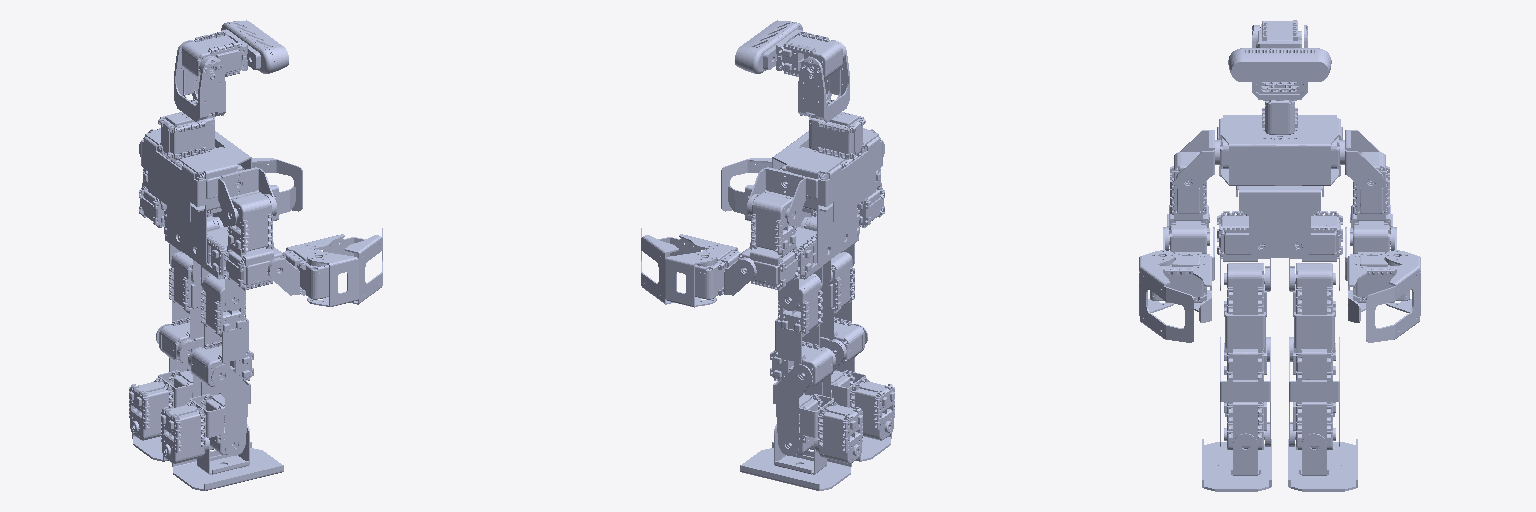
--- Facts derived from the render (not from the file) ---
The picture shows the robot from 3 angles, left to right: view 1: azimuth 30°, elevation 25°; view 2: azimuth 150°, elevation 25°; view 3: azimuth 270°, elevation 25°; orthographic projection.
Robot: BIOLOIDGPURDF — 22 links, 21 joints (21 continuous); root link base_link; default pose: every joint at zero.
Links seen in each view (by area): view 1: base_link, right_leg_link_2, right_arm_link_2, camera, right_leg_link_4, right_leg_link_5, left_leg_link_2, right_arm_link_3, left_leg_link_4, right_gripper, head_link, right_leg_link_3 (+8 smaller); view 2: base_link, left_leg_link_2, left_arm_link_2, camera, left_leg_link_4, left_leg_link_5, right_leg_link_2, left_arm_link_3, right_leg_link_4, left_gripper, head_link, left_leg_link_3 (+8 smaller); view 3: base_link, right_leg_link_2, left_leg_link_2, torso_Link, camera, right_leg_link_5, left_leg_link_5, right_arm_link_2, left_arm_link_2, right_gripper, left_gripper, right_arm_link_3 (+10 smaller).
Boxes of the visible links, <box> form: base_link: <box>141,112,251,221</box>; right_leg_link_2: <box>189,274,253,386</box>; right_arm_link_2: <box>224,192,285,290</box>; camera: <box>182,20,288,78</box>; right_leg_link_4: <box>161,393,238,463</box>; right_leg_link_5: <box>172,424,283,490</box>; left_leg_link_2: <box>159,252,203,362</box>; right_arm_link_3: <box>269,234,365,299</box>; left_leg_link_4: <box>129,369,192,440</box>; right_gripper: <box>307,228,382,306</box>; head_link: <box>174,40,225,122</box>; right_leg_link_3: <box>188,347,250,455</box>; base_link: <box>772,112,882,221</box>; left_leg_link_2: <box>770,274,834,386</box>; left_arm_link_2: <box>738,192,799,290</box>; camera: <box>735,20,844,78</box>; left_leg_link_4: <box>785,393,862,463</box>; left_leg_link_5: <box>740,424,851,490</box>; right_leg_link_2: <box>820,252,864,362</box>; left_arm_link_3: <box>658,234,754,299</box>; right_leg_link_4: <box>831,369,894,440</box>; left_gripper: <box>641,228,716,307</box>; head_link: <box>798,40,849,122</box>; left_leg_link_3: <box>773,347,835,455</box>; base_link: <box>1215,100,1344,185</box>; right_leg_link_2: <box>1224,263,1269,381</box>; left_leg_link_2: <box>1290,263,1335,381</box>; torso_Link: <box>1236,186,1323,257</box>; camera: <box>1228,20,1331,81</box>; right_leg_link_5: <box>1202,433,1271,491</box>; left_leg_link_5: <box>1288,433,1357,491</box>; right_arm_link_2: <box>1165,152,1209,253</box>; left_arm_link_2: <box>1350,152,1394,253</box>; right_gripper: <box>1139,250,1193,342</box>; left_gripper: <box>1366,250,1420,342</box>; right_arm_link_3: <box>1150,227,1214,322</box>.
Size in the robot's own frame: 0.2083 by 0.245 by 0.4258 metres.
22 mesh visuals loaded from 22 distinct referenced files (22 binary STL).

URDF robot description (BIOLOIDGPURDF):
<?xml version="1.0" encoding="utf-8"?>
<!-- This URDF was automatically created by SolidWorks to URDF Exporter! Originally created by Stephen Brawner ([email redacted]) 
     Commit Version: 1.5.0-0-g9aa0fdb  Build Version: 1.5.7004.21443
     For more information, please see http://wiki.ros.org/sw_urdf_exporter -->
<robot
  name="BIOLOIDGPURDF">
  <link
    name="base_link">
    <inertial>
      <origin
        xyz="-0.00597111269746017 2.42873429701085E-13 0.00803112203996735"
        rpy="0 0 0" />
      <mass
        value="0.197310024404685" />
      <inertia
        ixx="0.000225464933012639"
        ixy="1.10285365860214E-08"
        ixz="8.85680062206937E-06"
        iyy="0.00011955864066369"
        iyz="4.41132329846465E-08"
        izz="0.0002073725918361" />
    </inertial>
    <visual>
      <origin
        xyz="0 0 0"
        rpy="0 0 0" />
      <geometry>
        <mesh
          filename="package://BIOLOIDGPURDF/meshes/base_link.STL" />
      </geometry>
      <material
        name="">
        <color
          rgba="0.792156862745098 0.819607843137255 0.933333333333333 1" />
      </material>
    </visual>
    <collision>
      <origin
        xyz="0 0 0"
        rpy="0 0 0" />
      <geometry>
        <mesh
          filename="package://BIOLOIDGPURDF/meshes/base_link.STL" />
      </geometry>
    </collision>
  </link>
  <link
    name="right_arm_link_1">
    <inertial>
      <origin
        xyz="-5.99523879707409E-08 -0.0092517241686121 0.00509147632820952"
        rpy="0 0 0" />
      <mass
        value="0.00431248529357434" />
      <inertia
        ixx="8.70633126050822E-07"
        ixy="1.77301380087765E-12"
        ixz="-1.00611738981066E-12"
        iyy="1.89328168631898E-06"
        iyz="2.56388149762672E-07"
        izz="1.81662338069163E-06" />
    </inertial>
    <visual>
      <origin
        xyz="0 0 0"
        rpy="0 0 0" />
      <geometry>
        <mesh
          filename="package://BIOLOIDGPURDF/meshes/right_arm_link_1.STL" />
      </geometry>
      <material
        name="">
        <color
          rgba="0.792156862745098 0.819607843137255 0.933333333333333 1" />
      </material>
    </visual>
    <collision>
      <origin
        xyz="0 0 0"
        rpy="0 0 0" />
      <geometry>
        <mesh
          filename="package://BIOLOIDGPURDF/meshes/right_arm_link_1.STL" />
      </geometry>
    </collision>
  </link>
  <joint
    name="joint_1"
    type="continuous">
    <origin
      xyz="0.00874999999999913 -0.0564909335310514 0.00275000000000069"
      rpy="3.14159265358979 0 3.14159265358979" />
    <parent
      link="base_link" />
    <child
      link="right_arm_link_1" />
    <axis
      xyz="0 1 0" />
    <safety_controller
      k_velocity="0" />
  </joint>
  <link
    name="right_arm_link_2">
    <inertial>
      <origin
        xyz="-0.000528170885429072 -0.035251825072309 0.00311828635700788"
        rpy="0 0 0" />
      <mass
        value="0.0866430354377455" />
      <inertia
        ixx="6.4761924185407E-05"
        ixy="-9.60813329605431E-07"
        ixz="1.88358990654775E-07"
        iyy="1.98963286836706E-05"
        iyz="3.91875640809218E-06"
        izz="5.89621039609704E-05" />
    </inertial>
    <visual>
      <origin
        xyz="0 0 0"
        rpy="0 0 0" />
      <geometry>
        <mesh
          filename="package://BIOLOIDGPURDF/meshes/right_arm_link_2.STL" />
      </geometry>
      <material
        name="">
        <color
          rgba="0.792156862745098 0.819607843137255 0.933333333333333 1" />
      </material>
    </visual>
    <collision>
      <origin
        xyz="0 0 0"
        rpy="0 0 0" />
      <geometry>
        <mesh
          filename="package://BIOLOIDGPURDF/meshes/right_arm_link_2.STL" />
      </geometry>
    </collision>
  </link>
  <joint
    name="joint_3"
    type="continuous">
    <origin
      xyz="0 -0.0230090664689468 0.0179999999999891"
      rpy="-1.5707963267949 0 1.5707963267949" />
    <parent
      link="right_arm_link_1" />
    <child
      link="right_arm_link_2" />
    <axis
      xyz="0 0 1" />
    <safety_controller
      k_velocity="0" />
  </joint>
  <link
    name="right_arm_link_3">
    <inertial>
      <origin
        xyz="-0.00606576438623159 0.0422353648311166 0.0167447249251931"
        rpy="0 0 0" />
      <mass
        value="0.0528495144448317" />
      <inertia
        ixx="1.88542572569392E-05"
        ixy="-2.20683878391148E-06"
        ixz="-1.172956194386E-07"
        iyy="1.87100847753974E-05"
        iyz="-8.67725862020746E-07"
        izz="2.5771340096243E-05" />
    </inertial>
    <visual>
      <origin
        xyz="0 0 0"
        rpy="0 0 0" />
      <geometry>
        <mesh
          filename="package://BIOLOIDGPURDF/meshes/right_arm_link_3.STL" />
      </geometry>
      <material
        name="">
        <color
          rgba="0.792156862745098 0.819607843137255 0.933333333333333 1" />
      </material>
    </visual>
    <collision>
      <origin
        xyz="0 0 0"
        rpy="0 0 0" />
      <geometry>
        <mesh
          filename="package://BIOLOIDGPURDF/meshes/right_arm_link_3.STL" />
      </geometry>
    </collision>
  </link>
  <joint
    name="joint_5"
    type="continuous">
    <origin
      xyz="0 -0.0574 0.0182000000000002"
      rpy="1.5707963267949 0 0" />
    <parent
      link="right_arm_link_2" />
    <child
      link="right_arm_link_3" />
    <axis
      xyz="1 0 0" />
    <safety_controller
      k_velocity="0" />
  </joint>
  <link
    name="right_gripper">
    <inertial>
      <origin
        xyz="0.0179998120299161 -0.00624035209800906 0.0361347174477126"
        rpy="0 0 0" />
      <mass
        value="0.00882433124339025" />
      <inertia
        ixx="7.46132223751768E-06"
        ixy="-2.18389626500294E-11"
        ixz="-7.86332274748643E-12"
        iyy="9.36079581691153E-06"
        iyz="-1.88054352881293E-06"
        izz="4.68291021353321E-06" />
    </inertial>
    <visual>
      <origin
        xyz="0 0 0"
        rpy="3.1416 0 0" />
      <geometry>
        <mesh
          filename="package://BIOLOIDGPURDF/meshes/right_gripper.STL" />
      </geometry>
      <material
        name="">
        <color
          rgba="0.792156862745098 0.819607843137255 0.933333333333333 1" />
      </material>
    </visual>
    <collision>
      <origin
        xyz="0 0 0"
        rpy="3.1416 0 0" />
      <geometry>
        <mesh
          filename="package://BIOLOIDGPURDF/meshes/right_gripper.STL" />
      </geometry>
    </collision>
  </link>
  <joint
    name="joint_7"
    type="continuous">
    <origin
      xyz="-0.0224999999999999 0.0425 0"
      rpy="1.5707963267949 -1.5707963267949 0" />
    <parent
      link="right_arm_link_3" />
    <child
      link="right_gripper" />
    <axis
      xyz="1 0 0" />
    <safety_controller
      k_velocity="0" />
  </joint>
  <link
    name="left_arm_link_1">
    <inertial>
      <origin
        xyz="-5.99523863470397E-08 -0.00925172416861354 0.00509147632820985"
        rpy="0 0 0" />
      <mass
        value="0.00431248529357434" />
      <inertia
        ixx="8.70633126050824E-07"
        ixy="1.77301379736504E-12"
        ixz="-1.00611738925695E-12"
        iyy="1.89328168631898E-06"
        iyz="2.56388149762673E-07"
        izz="1.81662338069164E-06" />
    </inertial>
    <visual>
      <origin
        xyz="0 0 0"
        rpy="0 0 0" />
      <geometry>
        <mesh
          filename="package://BIOLOIDGPURDF/meshes/left_arm_link_1.STL" />
      </geometry>
      <material
        name="">
        <color
          rgba="0.792156862745098 0.819607843137255 0.933333333333333 1" />
      </material>
    </visual>
    <collision>
      <origin
        xyz="0 0 0"
        rpy="0 0 0" />
      <geometry>
        <mesh
          filename="package://BIOLOIDGPURDF/meshes/left_arm_link_1.STL" />
      </geometry>
    </collision>
  </link>
  <joint
    name="joint_2"
    type="continuous">
    <origin
      xyz="0.00874999999999915 0.0564909335310519 0.00275"
      rpy="3.14159265358979 0 0" />
    <parent
      link="base_link" />
    <child
      link="left_arm_link_1" />
    <axis
      xyz="0 1 0" />
    <safety_controller
      k_velocity="0" />
  </joint>
  <link
    name="left_arm_link_2">
    <inertial>
      <origin
        xyz="0.000496349118212114 -0.0352836468395269 0.00311828635700813"
        rpy="0 0 0" />
      <mass
        value="0.0866430354377454" />
      <inertia
        ixx="6.48839674431359E-05"
        ixy="1.0038567960211E-06"
        ixz="-1.92543807437855E-07"
        iyy="1.98991534231237E-05"
        iyz="3.90314394747213E-06"
        izz="5.90869719581521E-05" />
    </inertial>
    <visual>
      <origin
        xyz="0 0 0"
        rpy="0 0 0" />
      <geometry>
        <mesh
          filename="package://BIOLOIDGPURDF/meshes/left_arm_link_2.STL" />
      </geometry>
      <material
        name="">
        <color
          rgba="0.792156862745098 0.819607843137255 0.933333333333333 1" />
      </material>
    </visual>
    <collision>
      <origin
        xyz="0 0 0"
        rpy="0 0 0" />
      <geometry>
        <mesh
          filename="package://BIOLOIDGPURDF/meshes/left_arm_link_2.STL" />
      </geometry>
    </collision>
  </link>
  <joint
    name="joint_4"
    type="continuous">
    <origin
      xyz="0 -0.0230090664689482 0.0179999999999895"
      rpy="-1.5707963267949 0 -1.5707963267949" />
    <parent
      link="left_arm_link_1" />
    <child
      link="left_arm_link_2" />
    <axis
      xyz="0 0 1" />
    <safety_controller
      k_velocity="0" />
  </joint>
  <link
    name="left_arm_link_3">
    <inertial>
      <origin
        xyz="0.00606577417038441 0.0421831952977966 0.0167447249221345"
        rpy="0 0 0" />
      <mass
        value="0.0528495144448317" />
      <inertia
        ixx="1.88526541486023E-05"
        ixy="2.19496656091265E-06"
        ixz="1.1729558692268E-07"
        iyy="1.87100785019237E-05"
        iyz="-8.68677608830887E-07"
        izz="2.5769730715244E-05" />
    </inertial>
    <visual>
      <origin
        xyz="0 0 0"
        rpy="0 0 0" />
      <geometry>
        <mesh
          filename="package://BIOLOIDGPURDF/meshes/left_arm_link_3.STL" />
      </geometry>
      <material
        name="">
        <color
          rgba="0.792156862745098 0.819607843137255 0.933333333333333 1" />
      </material>
    </visual>
    <collision>
      <origin
        xyz="0 0 0"
        rpy="0 0 0" />
      <geometry>
        <mesh
          filename="package://BIOLOIDGPURDF/meshes/left_arm_link_3.STL" />
      </geometry>
    </collision>
  </link>
  <joint
    name="joint_6"
    type="continuous">
    <origin
      xyz="0 -0.0573999999999997 0.018200000000001"
      rpy="1.5707963267949 0 0" />
    <parent
      link="left_arm_link_2" />
    <child
      link="left_arm_link_3" />
    <axis
      xyz="1 0 0" />
    <safety_controller
      k_velocity="0" />
  </joint>
  <link
    name="left_gripper">
    <inertial>
      <origin
        xyz="-0.0180001879700939 -0.00624035209800411 0.0361347174477271"
        rpy="0 0 0" />
      <mass
        value="0.00882433124339503" />
      <inertia
        ixx="7.46132223752179E-06"
        ixy="-2.1838961809922E-11"
        ixz="-7.86332015471738E-12"
        iyy="9.36079581691706E-06"
        iyz="-1.88054352881412E-06"
        izz="4.68291021353545E-06" />
    </inertial>
    <visual>
      <origin
        xyz="0 0 0"
        rpy="3.1416 0 0" />
      <geometry>
        <mesh
          filename="package://BIOLOIDGPURDF/meshes/left_gripper.STL" />
      </geometry>
      <material
        name="">
        <color
          rgba="0.792156862745098 0.819607843137255 0.933333333333333 1" />
      </material>
    </visual>
    <collision>
      <origin
        xyz="0 0 0"
        rpy="3.1416 0 0" />
      <geometry>
        <mesh
          filename="package://BIOLOIDGPURDF/meshes/left_gripper.STL" />
      </geometry>
    </collision>
  </link>
  <joint
    name="joint_8"
    type="continuous">
    <origin
      xyz="0.0225000000000024 0.0425 0"
      rpy="1.5707963267949 1.5707963267949 0" />
    <parent
      link="left_arm_link_3" />
    <child
      link="left_gripper" />
    <axis
      xyz="1 0 0" />
    <safety_controller
      k_velocity="0" />
  </joint>
  <link
    name="torso_Link">
    <inertial>
      <origin
        xyz="1.22991894446756E-15 -0.0218346005747998 -0.00143510443579974"
        rpy="0 0 0" />
      <mass
        value="0.0175904238224438" />
      <inertia
        ixx="1.39256548782639E-05"
        ixy="-7.47337320739357E-20"
        ixz="2.87959003007381E-19"
        iyy="1.43256116030718E-05"
        iyz="-5.19258251727891E-07"
        izz="1.52021771794982E-05" />
    </inertial>
    <visual>
      <origin
        xyz="0 0 0"
        rpy="0 0 0" />
      <geometry>
        <mesh
          filename="package://BIOLOIDGPURDF/meshes/torso_Link.STL" />
      </geometry>
      <material
        name="">
        <color
          rgba="0.792156862745098 0.819607843137255 0.933333333333333 1" />
      </material>
    </visual>
    <collision>
      <origin
        xyz="0 0 0"
        rpy="0 0 0" />
      <geometry>
        <mesh
          filename="package://BIOLOIDGPURDF/meshes/torso_Link.STL" />
      </geometry>
    </collision>
  </link>
  <joint
    name="joint_19"
    type="continuous">
    <origin
      xyz="0.00824999999999999 0 -0.02375"
      rpy="1.5707963267949 0 1.5707963267949" />
    <parent
      link="base_link" />
    <child
      link="torso_Link" />
    <axis
      xyz="0 1 0" />
    <safety_controller
      k_velocity="0" />
  </joint>
  <link
    name="right_leg_link_1">
    <inertial>
      <origin
        xyz="-0.0130433686111558 -0.00232565541955652 0.000953578453528892"
        rpy="0 0 0" />
      <mass
        value="0.0465444257122034" />
      <inertia
        ixx="9.99235737792942E-06"
        ixy="-1.71936981719273E-07"
        ixz="-9.99819793167413E-08"
        iyy="1.38273935535504E-05"
        iyz="-1.05427694515858E-07"
        izz="1.4421418206511E-05" />
    </inertial>
    <visual>
      <origin
        xyz="0 0 0"
        rpy="0 0 0" />
      <geometry>
        <mesh
          filename="package://BIOLOIDGPURDF/meshes/right_leg_link_1.STL" />
      </geometry>
      <material
        name="">
        <color
          rgba="0.792156862745098 0.819607843137255 0.933333333333333 1" />
      </material>
    </visual>
    <collision>
      <origin
        xyz="0 0 0"
        rpy="0 0 0" />
      <geometry>
        <mesh
          filename="package://BIOLOIDGPURDF/meshes/right_leg_link_1.STL" />
      </geometry>
    </collision>
  </link>
  <joint
    name="joint_9"
    type="continuous">
    <origin
      xyz="-0.016 -0.0535000000000007 0"
      rpy="0 0 0" />
    <parent
      link="torso_Link" />
    <child
      link="right_leg_link_1" />
    <axis
      xyz="0 0 1" />
    <safety_controller
      k_velocity="0" />
  </joint>
  <link
    name="right_leg_link_2">
    <inertial>
      <origin
        xyz="-0.0129933768641217 -0.0436970573415131 -0.000382655609194593"
        rpy="0 0 0" />
      <mass
        value="0.0881834718655757" />
      <inertia
        ixx="0.000101062824180916"
        ixy="-1.00002263782024E-07"
        ixz="1.2845900981245E-07"
        iyy="2.04796477612127E-05"
        iyz="-2.23397782275553E-06"
        izz="9.9543462536748E-05" />
    </inertial>
    <visual>
      <origin
        xyz="0 0 0"
        rpy="0 0 0" />
      <geometry>
        <mesh
          filename="package://BIOLOIDGPURDF/meshes/right_leg_link_2.STL" />
      </geometry>
      <material
        name="">
        <color
          rgba="0.792156862745098 0.819607843137255 0.933333333333333 1" />
      </material>
    </visual>
    <collision>
      <origin
        xyz="0 0 0"
        rpy="0 0 0" />
      <geometry>
        <mesh
          filename="package://BIOLOIDGPURDF/meshes/right_leg_link_2.STL" />
      </geometry>
    </collision>
  </link>
  <joint
    name="joint_11"
    type="continuous">
    <origin
      xyz="0 -0.0417999999999986 0"
      rpy="0 0 0" />
    <parent
      link="right_leg_link_1" />
    <child
      link="right_leg_link_2" />
    <axis
      xyz="1 0 0" />
    <safety_controller
      k_velocity="0" />
  </joint>
  <link
    name="right_leg_link_3">
    <inertial>
      <origin
        xyz="0.0139999999999993 0.0340551332977302 0.0155632377637608"
        rpy="0 0 0" />
      <mass
        value="0.0079072797227404" />
      <inertia
        ixx="5.32776553828385E-06"
        ixy="-9.24371218781444E-20"
        ixz="-3.3591791010832E-20"
        iyy="4.22027747361642E-06"
        iyz="-3.92003519035261E-07"
        izz="7.78909127423573E-06" />
    </inertial>
    <visual>
      <origin
        xyz="0 0 0"
        rpy="0 0 0" />
      <geometry>
        <mesh
          filename="package://BIOLOIDGPURDF/meshes/right_leg_link_3.STL" />
      </geometry>
      <material
        name="">
        <color
          rgba="0.792156862745098 0.819607843137255 0.933333333333333 1" />
      </material>
    </visual>
    <collision>
      <origin
        xyz="0 0 0"
        rpy="0 0 0" />
      <geometry>
        <mesh
          filename="package://BIOLOIDGPURDF/meshes/right_leg_link_3.STL" />
      </geometry>
    </collision>
  </link>
  <joint
    name="joint_13"
    type="continuous">
    <origin
      xyz="0 -0.0744000000000002 -0.0145000000000005"
      rpy="0 0 3.14159265358979" />
    <parent
      link="right_leg_link_2" />
    <child
      link="right_leg_link_3" />
    <axis
      xyz="1 0 0" />
    <safety_controller
      k_velocity="0" />
  </joint>
  <link
    name="right_leg_link_4">
    <inertial>
      <origin
        xyz="-0.0133698054325366 0.0211205241394332 0.0130895015607345"
        rpy="0 0 0" />
      <mass
        value="0.0859237565803214" />
      <inertia
        ixx="6.02259469198291E-05"
        ixy="7.29704181602787E-07"
        ixz="9.47537449993694E-08"
        iyy="2.32968656029174E-05"
        iyz="7.46386907678859E-09"
        izz="5.12809574431431E-05" />
    </inertial>
    <visual>
      <origin
        xyz="0 0 0"
        rpy="0 0 0" />
      <geometry>
        <mesh
          filename="package://BIOLOIDGPURDF/meshes/right_leg_link_4.STL" />
      </geometry>
      <material
        name="">
        <color
          rgba="0.792156862745098 0.819607843137255 0.933333333333333 1" />
      </material>
    </visual>
    <collision>
      <origin
        xyz="0 0 0"
        rpy="0 0 0" />
      <geometry>
        <mesh
          filename="package://BIOLOIDGPURDF/meshes/right_leg_link_4.STL" />
      </geometry>
    </collision>
  </link>
  <joint
    name="joint_15"
    type="continuous">
    <origin
      xyz="0 0.075 0.0145000000000001"
      rpy="-1.5707963267949 0 3.14159265358979" />
    <parent
      link="right_leg_link_3" />
    <child
      link="right_leg_link_4" />
    <axis
      xyz="1 0 0" />
    <safety_controller
      k_velocity="0" />
  </joint>
  <link
    name="right_leg_link_5">
    <inertial>
      <origin
        xyz="0.000199999993779801 -0.0275902112818819 0.00605058063621389"
        rpy="0 0 0" />
      <mass
        value="0.0175854270431212" />
      <inertia
        ixx="6.54643930160229E-06"
        ixy="-2.19848495655286E-16"
        ixz="8.47782118364479E-16"
        iyy="1.65177350592553E-05"
        iyz="2.96641934768506E-07"
        izz="1.21530015936674E-05" />
    </inertial>
    <visual>
      <origin
        xyz="0 0 0"
        rpy="0 0 0" />
      <geometry>
        <mesh
          filename="package://BIOLOIDGPURDF/meshes/right_leg_link_5.STL" />
      </geometry>
      <material
        name="">
        <color
          rgba="0.792156862745098 0.819607843137255 0.933333333333333 1" />
      </material>
    </visual>
    <collision>
      <origin
        xyz="0 0 0"
        rpy="0 0 0" />
      <geometry>
        <mesh
          filename="package://BIOLOIDGPURDF/meshes/right_leg_link_5.STL" />
      </geometry>
    </collision>
  </link>
  <joint
    name="joint_17"
    type="continuous">
    <origin
      xyz="-0.0138 0 -9.99999999997669E-05"
      rpy="1.5707963267949 0 -1.5707963267949" />
    <parent
      link="right_leg_link_4" />
    <child
      link="right_leg_link_5" />
    <axis
      xyz="1 0 0" />
    <safety_controller
      k_velocity="0" />
  </joint>
  <link
    name="left_leg_link_1">
    <inertial>
      <origin
        xyz="-0.0130433686111557 -0.00238489204053895 -0.000953578453528878"
        rpy="0 0 0" />
      <mass
        value="0.0465444257122034" />
      <inertia
        ixx="9.97936976499089E-06"
        ixy="-1.93169433759585E-07"
        ixz="9.9981979316743E-08"
        iyy="1.38273935535504E-05"
        iyz="1.03644120445212E-07"
        izz="1.44084305935725E-05" />
    </inertial>
    <visual>
      <origin
        xyz="0 0 0"
        rpy="0 0 0" />
      <geometry>
        <mesh
          filename="package://BIOLOIDGPURDF/meshes/left_leg_link_1.STL" />
      </geometry>
      <material
        name="">
        <color
          rgba="0.792156862745098 0.819607843137255 0.933333333333333 1" />
      </material>
    </visual>
    <collision>
      <origin
        xyz="0 0 0"
        rpy="0 0 0" />
      <geometry>
        <mesh
          filename="package://BIOLOIDGPURDF/meshes/left_leg_link_1.STL" />
      </geometry>
    </collision>
  </link>
  <joint
    name="joint_10"
    type="continuous">
    <origin
      xyz="0.016 -0.0535000000000007 0"
      rpy="3.14159265358979 0 -3.14159265358979" />
    <parent
      link="torso_Link" />
    <child
      link="left_leg_link_1" />
    <axis
      xyz="0 0 1" />
    <safety_controller
      k_velocity="0" />
  </joint>
  <link
    name="left_leg_link_2">
    <inertial>
      <origin
        xyz="0.0129933768640695 -0.0437283232289456 -0.00041392149663258"
        rpy="0 0 0" />
      <mass
        value="0.0881834718655757" />
      <inertia
        ixx="0.000101229845991638"
        ixy="9.83649408830372E-08"
        ixz="-1.30096332560613E-07"
        iyy="2.04774514909886E-05"
        iyz="-2.15233637129483E-06"
        izz="9.97126806176936E-05" />
    </inertial>
    <visual>
      <origin
        xyz="0 0 0"
        rpy="0 0 0" />
      <geometry>
        <mesh
          filename="package://BIOLOIDGPURDF/meshes/left_leg_link_2.STL" />
      </geometry>
      <material
        name="">
        <color
          rgba="0.792156862745098 0.819607843137255 0.933333333333333 1" />
      </material>
    </visual>
    <collision>
      <origin
        xyz="0 0 0"
        rpy="0 0 0" />
      <geometry>
        <mesh
          filename="package://BIOLOIDGPURDF/meshes/left_leg_link_2.STL" />
      </geometry>
    </collision>
  </link>
  <joint
    name="joint_12"
    type="continuous">
    <origin
      xyz="0 -0.0418000000000006 0"
      rpy="3.14159265358979 0 -3.14159265358979" />
    <parent
      link="left_leg_link_1" />
    <child
      link="left_leg_link_2" />
    <axis
      xyz="1 0 0" />
    <safety_controller
      k_velocity="0" />
  </joint>
  <link
    name="left_leg_link_3">
    <inertial>
      <origin
        xyz="-0.0140000000000145 0.0340551332977302 0.0155632377637383"
        rpy="0 0 0" />
      <mass
        value="0.00790727972274038" />
      <inertia
        ixx="5.32776553828383E-06"
        ixy="2.77979579926664E-19"
        ixz="-2.36740765015785E-18"
        iyy="4.22027747361641E-06"
        iyz="-3.92003519035259E-07"
        izz="7.78909127423571E-06" />
    </inertial>
    <visual>
      <origin
        xyz="0 0 0"
        rpy="0 0 0" />
      <geometry>
        <mesh
          filename="package://BIOLOIDGPURDF/meshes/left_leg_link_3.STL" />
      </geometry>
      <material
        name="">
        <color
          rgba="0.792156862745098 0.819607843137255 0.933333333333333 1" />
      </material>
    </visual>
    <collision>
      <origin
        xyz="0 0 0"
        rpy="0 0 0" />
      <geometry>
        <mesh
          filename="package://BIOLOIDGPURDF/meshes/left_leg_link_3.STL" />
      </geometry>
    </collision>
  </link>
  <joint
    name="joint_14"
    type="continuous">
    <origin
      xyz="0 -0.0744 -0.0145000000000106"
      rpy="0 0 3.14159265358979" />
    <parent
      link="left_leg_link_2" />
    <child
      link="left_leg_link_3" />
    <axis
      xyz="1 0 0" />
    <safety_controller
      k_velocity="0" />
  </joint>
  <link
    name="left_leg_link_4">
    <inertial>
      <origin
        xyz="0.0134018935838427 0.0210884359881069 0.0130895015607345"
        rpy="0 0 0" />
      <mass
        value="0.0859237565803214" />
      <inertia
        ixx="6.03423227002083E-05"
        ixy="-7.89206919925737E-07"
        ixz="-1.15583288842905E-07"
        iyy="2.32991493401383E-05"
        iyz="2.85691263699968E-08"
        izz="5.13996169607431E-05" />
    </inertial>
    <visual>
      <origin
        xyz="0 0 0"
        rpy="0 0 0" />
      <geometry>
        <mesh
          filename="package://BIOLOIDGPURDF/meshes/left_leg_link_4.STL" />
      </geometry>
      <material
        name="">
        <color
          rgba="0.792156862745098 0.819607843137255 0.933333333333333 1" />
      </material>
    </visual>
    <collision>
      <origin
        xyz="0 0 0"
        rpy="0 0 0" />
      <geometry>
        <mesh
          filename="package://BIOLOIDGPURDF/meshes/left_leg_link_4.STL" />
      </geometry>
    </collision>
  </link>
  <joint
    name="joint_16"
    type="continuous">
    <origin
      xyz="0 0.075 0.0144999999999907"
      rpy="-1.5707963267949 0 -3.14159265358979" />
    <parent
      link="left_leg_link_3" />
    <child
      link="left_leg_link_4" />
    <axis
      xyz="1 0 0" />
    <safety_controller
      k_velocity="0" />
  </joint>
  <link
    name="left_leg_link_5">
    <inertial>
      <origin
        xyz="-0.000199999993796648 0.0275902112818829 -0.0060505807146668"
        rpy="0 0 0" />
      <mass
        value="0.0175854270431213" />
      <inertia
        ixx="6.54643930698129E-06"
        ixy="-2.19009557593151E-16"
        ixz="-4.2299173137052E-16"
        iyy="1.65177350646342E-05"
        iyz="2.9664192591197E-07"
        izz="1.21530015936675E-05" />
    </inertial>
    <visual>
      <origin
        xyz="0 0 0"
        rpy="0 0 0" />
      <geometry>
        <mesh
          filename="package://BIOLOIDGPURDF/meshes/left_leg_link_5.STL" />
      </geometry>
      <material
        name="">
        <color
          rgba="0.792156862745098 0.819607843137255 0.933333333333333 1" />
      </material>
    </visual>
    <collision>
      <origin
        xyz="0 0 0"
        rpy="0 0 0" />
      <geometry>
        <mesh
          filename="package://BIOLOIDGPURDF/meshes/left_leg_link_5.STL" />
      </geometry>
    </collision>
  </link>
  <joint
    name="joint_18"
    type="continuous">
    <origin
      xyz="0.0137999999999867 0 -9.9999999999989E-05"
      rpy="-1.5707963267949 0 1.5707963267949" />
    <parent
      link="left_leg_link_4" />
    <child
      link="left_leg_link_5" />
    <axis
      xyz="1 0 0" />
    <safety_controller
      k_velocity="0" />
  </joint>
  <link
    name="head_link">
    <inertial>
      <origin
        xyz="1.92660815680375E-07 0.000589833196490114 -0.0219995934404275"
        rpy="0 0 0" />
      <mass
        value="0.0131552831434282" />
      <inertia
        ixx="5.23338949852371E-06"
        ixy="3.48156234986867E-12"
        ixz="6.72257113125423E-11"
        iyy="9.22115966799723E-06"
        iyz="-7.97728602162947E-08"
        izz="6.00760307627287E-06" />
    </inertial>
    <visual>
      <origin
        xyz="0 0 0"
        rpy="0 0 0" />
      <geometry>
        <mesh
          filename="package://BIOLOIDGPURDF/meshes/head_link.STL" />
      </geometry>
      <material
        name="">
        <color
          rgba="0.792156862745098 0.819607843137255 0.933333333333333 1" />
      </material>
    </visual>
    <collision>
      <origin
        xyz="0 0 0"
        rpy="0 0 0" />
      <geometry>
        <mesh
          filename="package://BIOLOIDGPURDF/meshes/head_link.STL" />
      </geometry>
    </collision>
  </link>
  <joint
    name="joint_20"
    type="continuous">
    <origin
      xyz="0.000250000000000014 0 0.0555498969223593"
      rpy="3.14159265358979 0 -1.5707963267949" />
    <parent
      link="base_link" />
    <child
      link="head_link" />
    <axis
      xyz="0 0 1" />
    <safety_controller
      k_velocity="0" />
  </joint>
  <link
    name="camera">
    <inertial>
      <origin
        xyz="-4.37141916987821E-05 -0.0368905949193783 0.000350614361722198"
        rpy="0 0 0" />
      <mass
        value="0.095160987633104" />
      <inertia
        ixx="8.89918647837385E-05"
        ixy="-3.52135014298042E-08"
        ixz="2.53853932051776E-10"
        iyy="3.82187121277295E-05"
        iyz="-1.49170179733209E-06"
        izz="6.00706363711014E-05" />
    </inertial>
    <visual>
      <origin
        xyz="0 0 0"
        rpy="0 0 0" />
      <geometry>
        <mesh
          filename="package://BIOLOIDGPURDF/meshes/camera.STL" />
      </geometry>
      <material
        name="">
        <color
          rgba="0.792156862745098 0.819607843137255 0.933333333333333 1" />
      </material>
    </visual>
    <collision>
      <origin
        xyz="0 0 0"
        rpy="0 0 0" />
      <geometry>
        <mesh
          filename="package://BIOLOIDGPURDF/meshes/camera.STL" />
      </geometry>
    </collision>
  </link>
  <joint
    name="joint_21"
    type="continuous">
    <origin
      xyz="0 0 -0.0537001030776406"
      rpy="0 1.5707963267949 0" />
    <parent
      link="head_link" />
    <child
      link="camera" />
    <axis
      xyz="0 0 1" />
    <safety_controller
      k_velocity="0" />
  </joint>
</robot>
